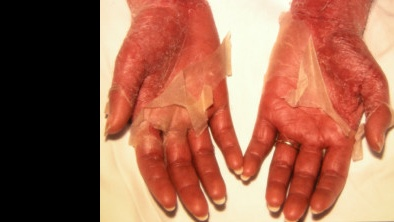SJS-TEN: (233, 0, 394, 222), (103, 0, 244, 222)
